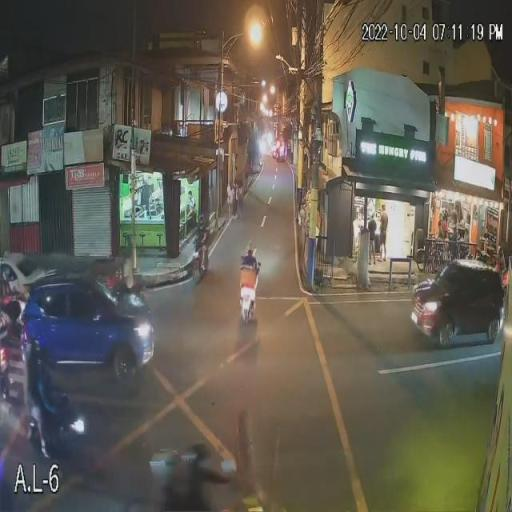helmet: (20, 334, 45, 361), (38, 351, 62, 378), (238, 238, 260, 255)
motorcycle: (19, 390, 103, 467), (234, 259, 271, 329)
rider: (22, 358, 56, 463), (36, 364, 69, 425), (236, 256, 260, 280)
